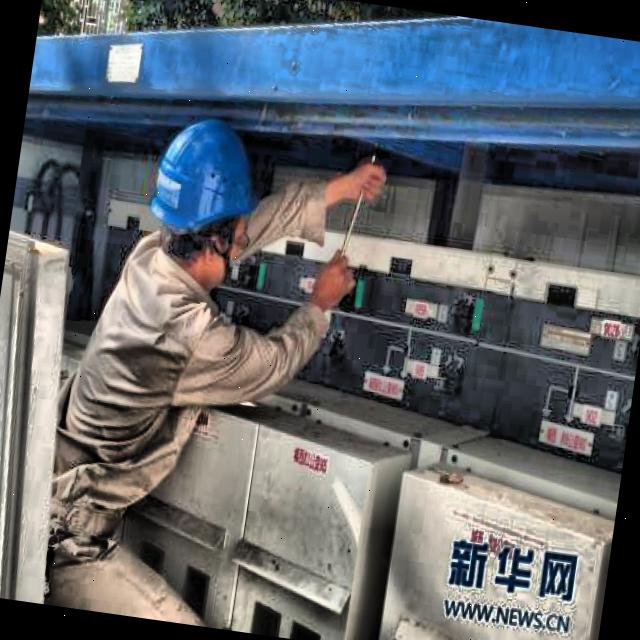helmet: (130, 97, 276, 306)
